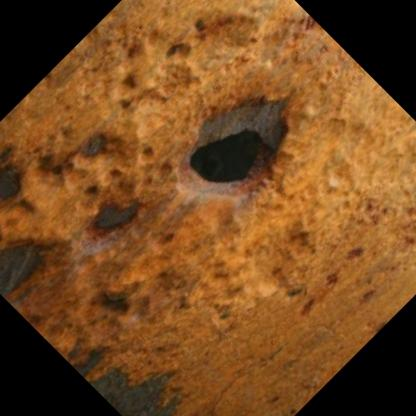burst: (171, 90, 308, 210)
